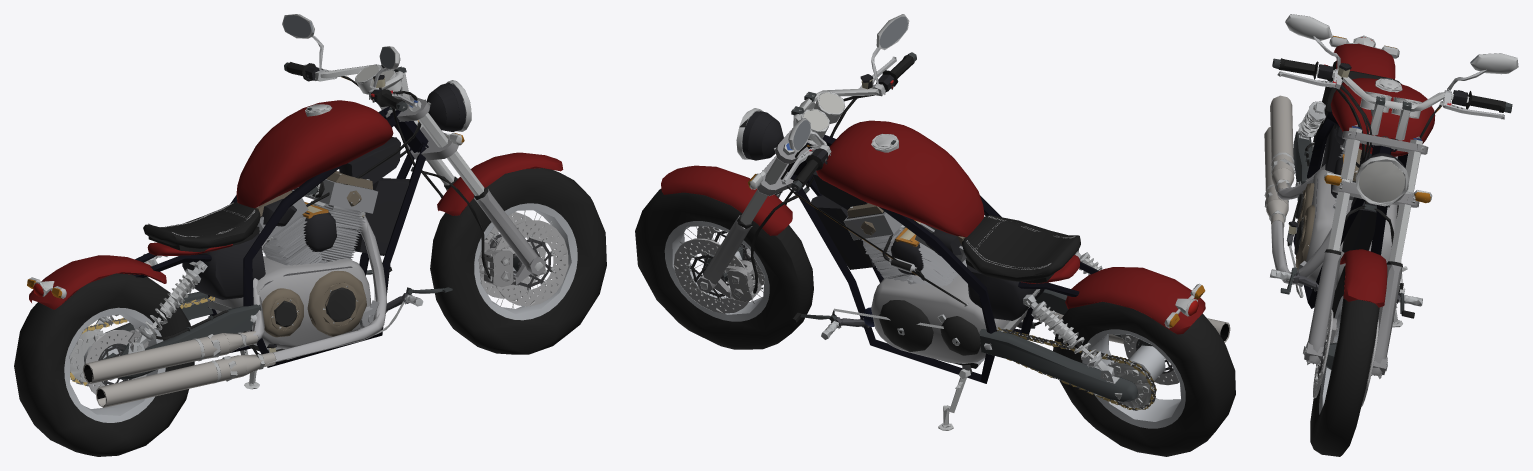
The model's file is SM_Prop_house_bike_6.glb.
3 renders of one model, left to right at view 1: azimuth 30°, elevation 25°; view 2: azimuth 150°, elevation 25°; view 3: azimuth 270°, elevation 25°, orthographic. The views are drawn at different scales.
Parts seen in each view (by area): view 1: SM_Prop_house_bike_6; view 2: SM_Prop_house_bike_6; view 3: SM_Prop_house_bike_6.
Part boxes in pixels (<box>): SM_Prop_house_bike_6: <box>14,14,606,456</box>; SM_Prop_house_bike_6: <box>635,14,1235,456</box>; SM_Prop_house_bike_6: <box>1264,14,1518,456</box>.
Size of the model in its own units: 2.3 by 1.32 by 0.85.
